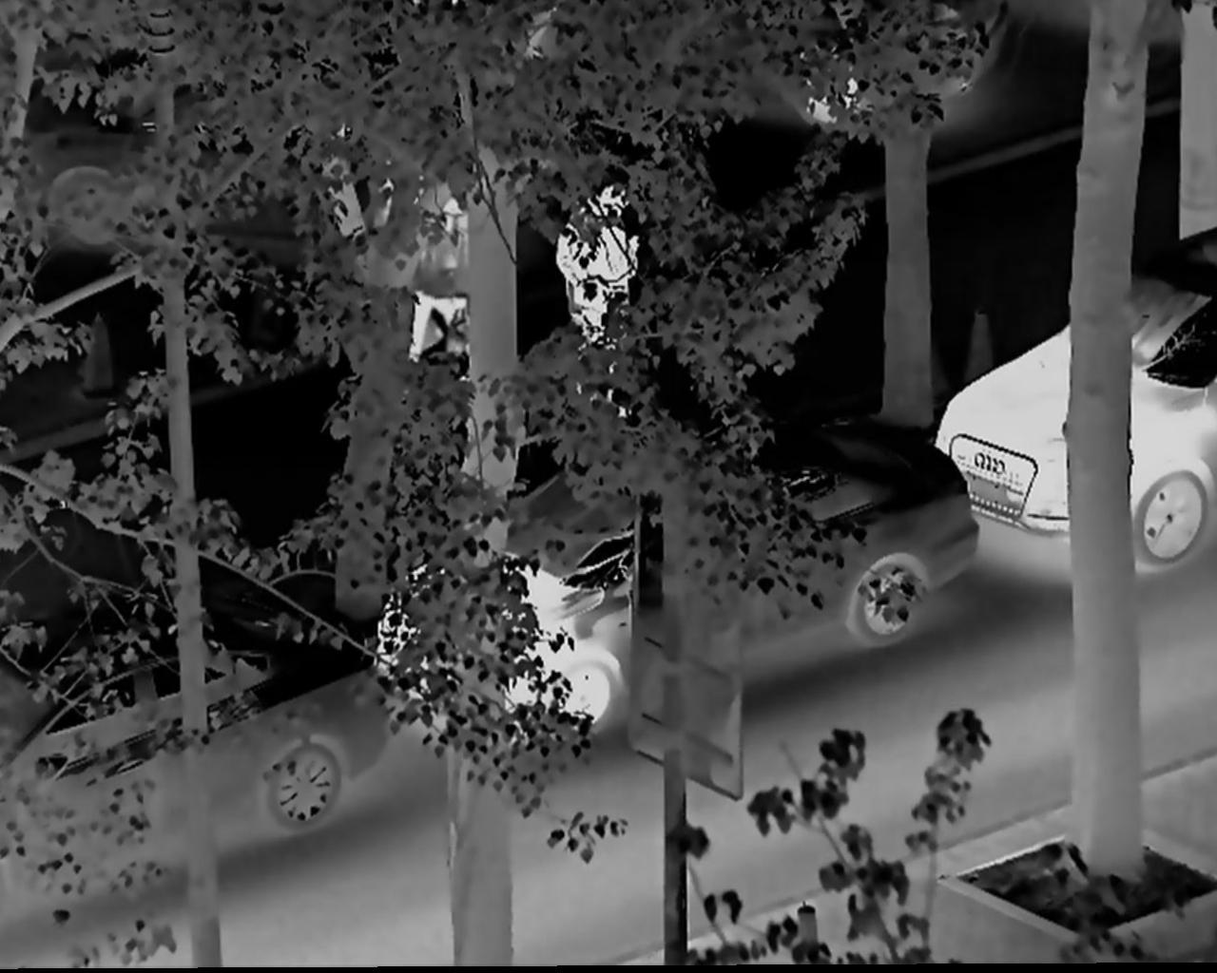person: (404, 186, 473, 383), (579, 163, 647, 343), (552, 204, 603, 349)
